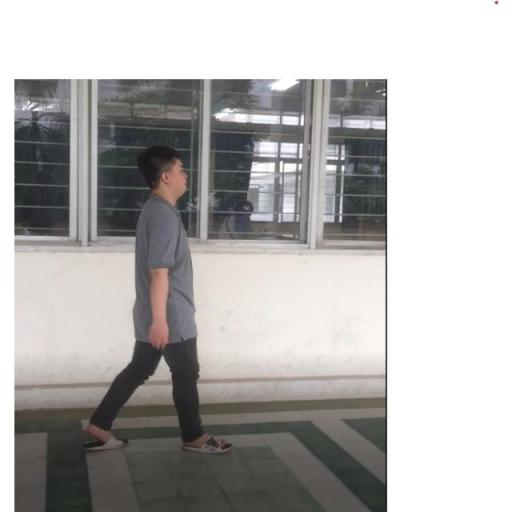Running: (78, 136, 237, 458)
